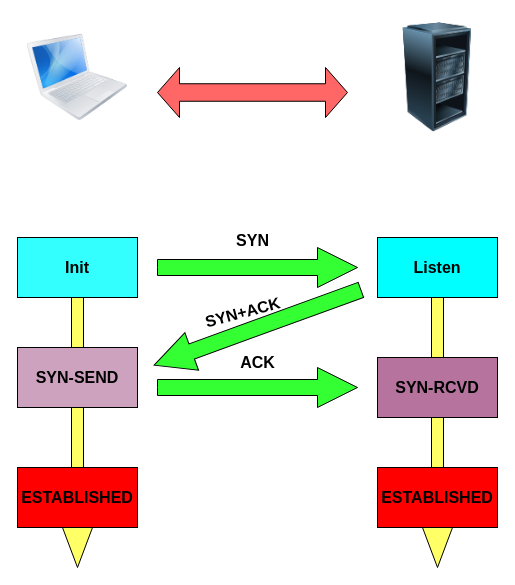
Some shapes in this 515 by 585 pixel diagram are drawn without their labels. Here are the shapes that lost their labels. From the top down, the centre of each, then its label:
point (77, 77): Client
point (252, 92): 连接
point (437, 77): Server
